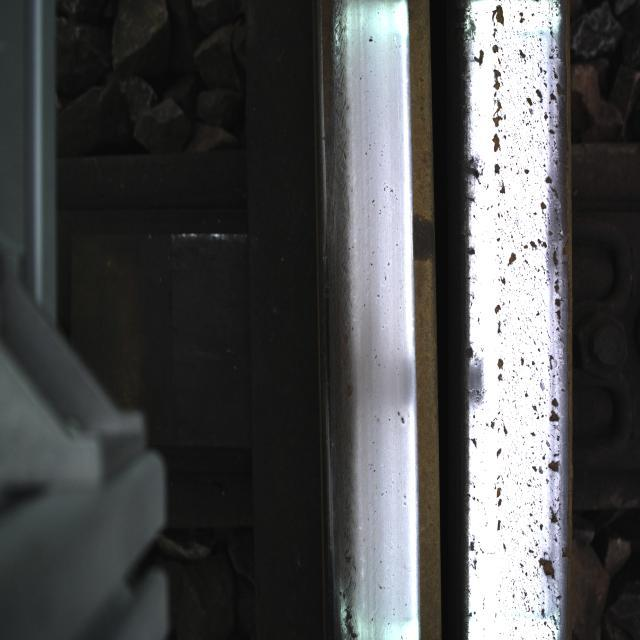scar: (473, 11, 552, 485)
